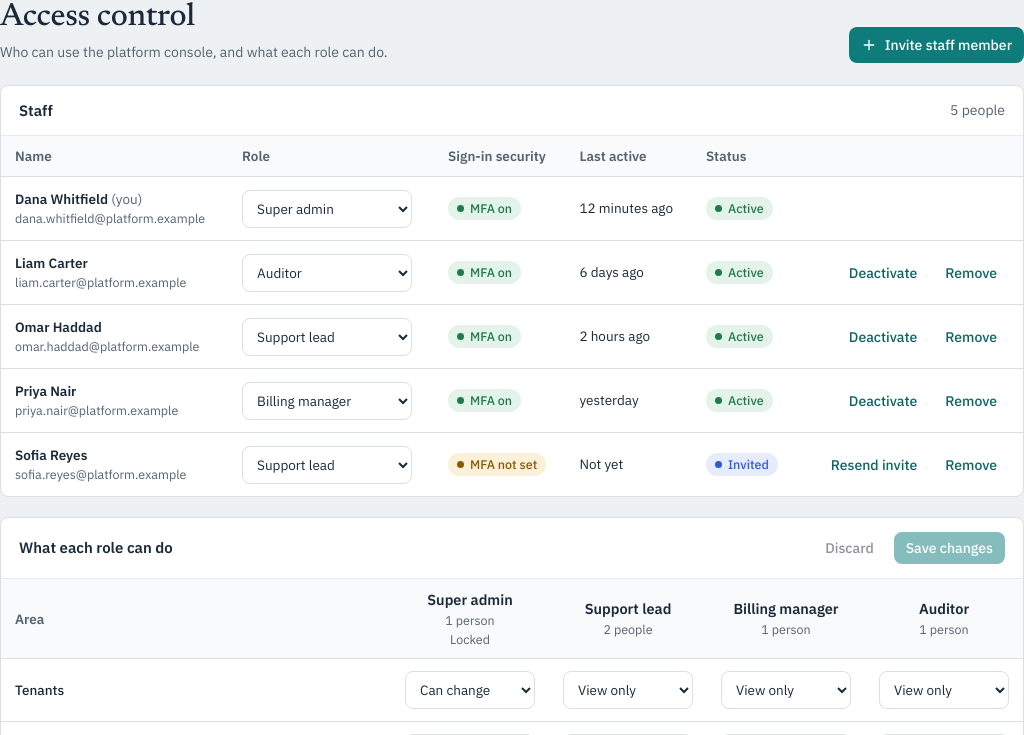
Scenario: demoting asks first › changes nothing on Cancel, and the select goes back
This screenshot has width=1024, height=735.
Check: the column heading "Super admin 1 person Locked" is shown, box [391,579,549,659]
Select "Auditor" in the dropdown named "Role for Priya Nair". click: (327,401)
box: [242,382,412,420]
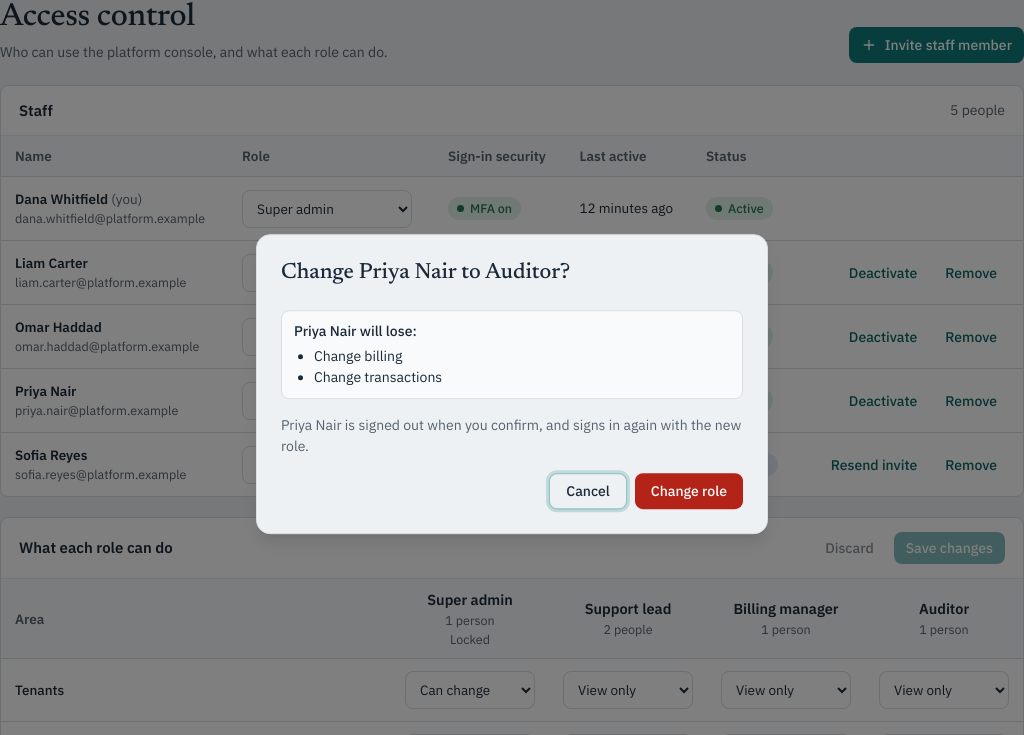
Click the button "Cancel". click: (588,491)
box: [549,473,627,509]
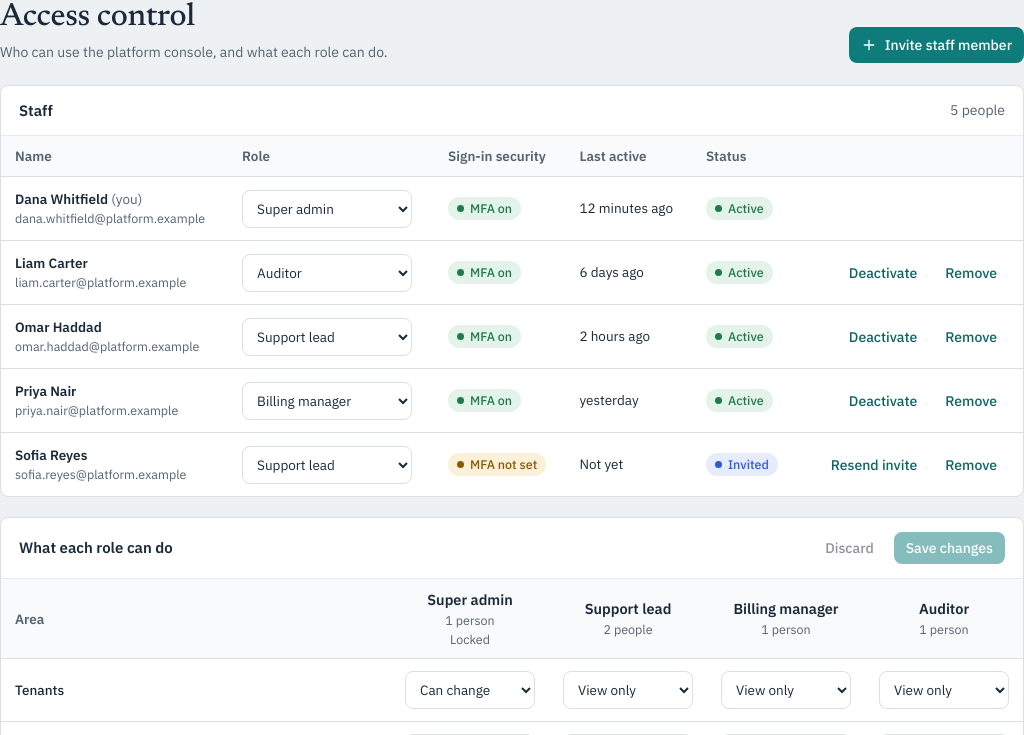
Check: the dialog is gone
